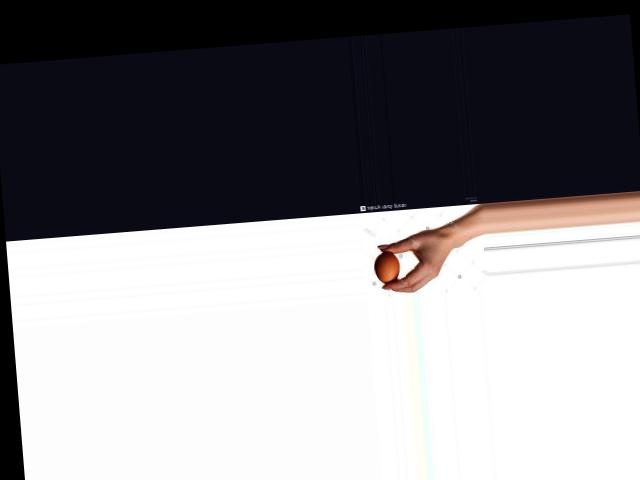egg: (373, 250, 402, 283)
